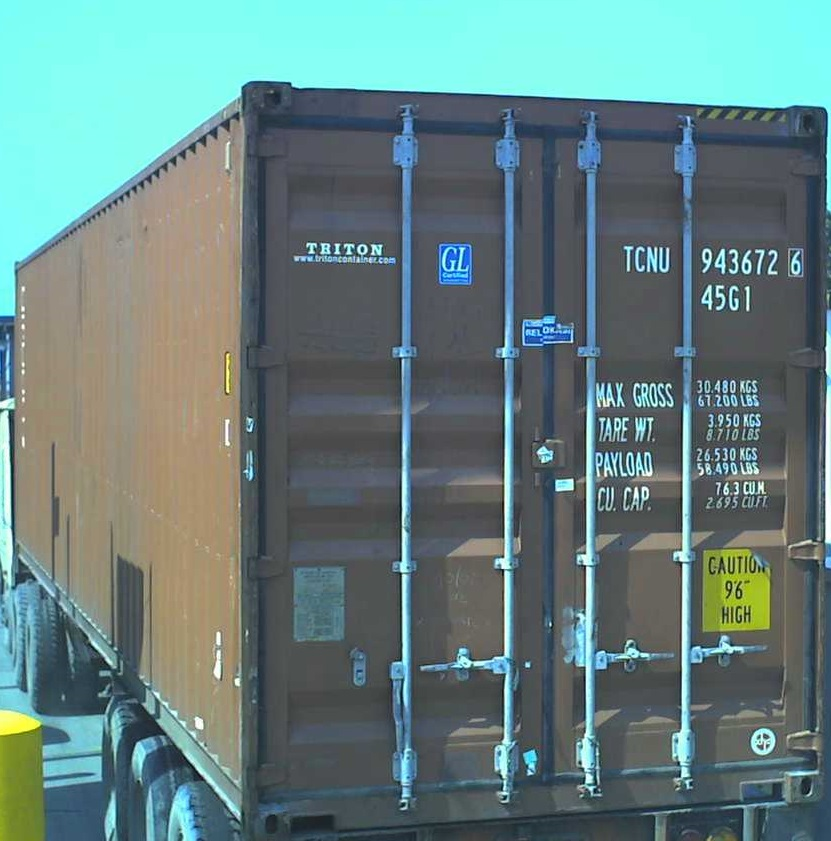container_door: (249, 72, 824, 815)
